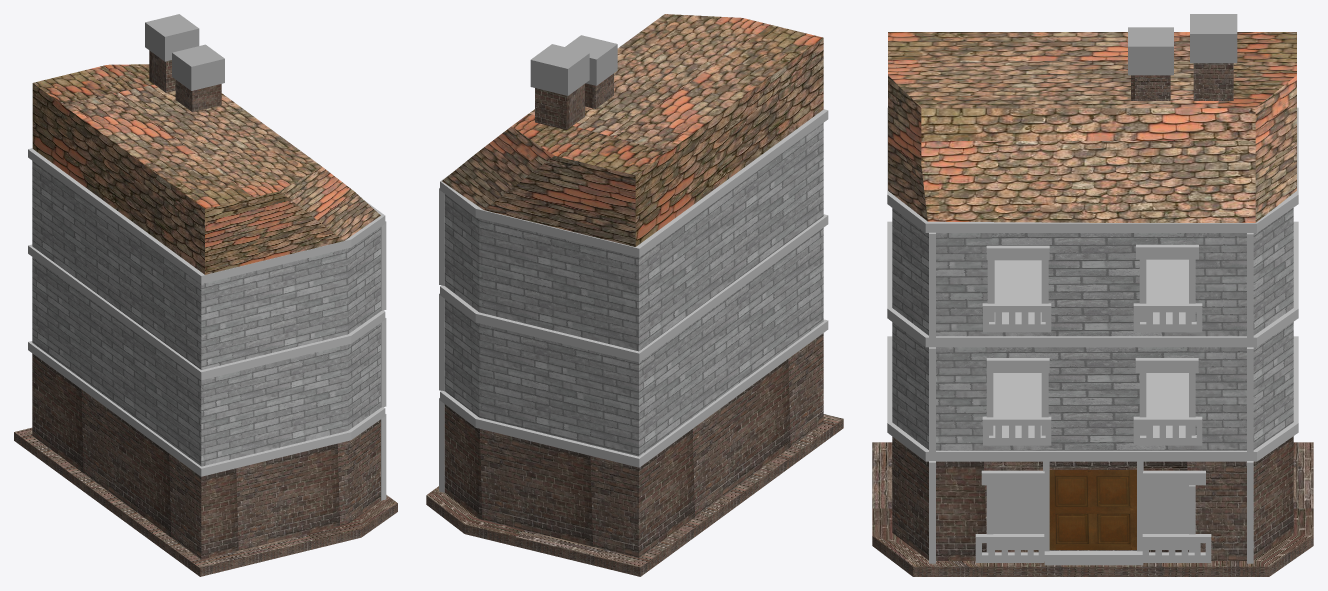
File: City house3.fbx
3 views of the same model, side by side, from view 1: azimuth 30°, elevation 25°; view 2: azimuth 150°, elevation 25°; view 3: azimuth 270°, elevation 25° (orthographic). The views are drawn at different scales.
Parts seen in each view (by area): view 1: Cube, Cube.001, Cube.002, Cube.003, Cube.005, Cube.006, Cube.004, Cube.042, Cube.010, Cube.009, Cube.008, Cube.007 (+3 smaller); view 2: Cube, Cube.001, Cube.002, Cube.003, Cube.005, Cube.006, Cube.042, Cube.004, Cube.009, Cube.007, Cube.010, Cube.008 (+3 smaller); view 3: Cube, Cube.002, Cube.001, Cube.003, Cube.005, Cube.004, Cube.042, Plane, Cube.006, Plane.002, Plane.001, Cube.009 (+24 smaller).
Part boxes in pixels (<box>): Cube: <box>32,64,380,274</box>; Cube.001: <box>32,257,380,466</box>; Cube.002: <box>32,161,380,369</box>; Cube.003: <box>32,353,380,559</box>; Cube.005: <box>14,427,397,576</box>; Cube.006: <box>28,148,385,283</box>; Cube.004: <box>28,244,385,380</box>; Cube.042: <box>28,341,385,476</box>; Cube.010: <box>172,44,224,90</box>; Cube.009: <box>145,14,199,61</box>; Cube.008: <box>175,80,221,112</box>; Cube.007: <box>149,50,175,92</box>; Cube: <box>442,14,823,246</box>; Cube.001: <box>444,228,823,456</box>; Cube.002: <box>444,123,823,351</box>; Cube.003: <box>444,333,823,557</box>; Cube.005: <box>426,414,843,576</box>; Cube.006: <box>440,109,828,257</box>; Cube.042: <box>440,319,828,467</box>; Cube.004: <box>440,214,828,362</box>; Cube.009: <box>530,44,589,95</box>; Cube.007: <box>535,84,584,129</box>; Cube.010: <box>565,35,617,85</box>; Cube.008: <box>585,73,613,108</box>; Cube: <box>888,32,1296,222</box>; Cube.002: <box>892,208,1293,336</box>; Cube.001: <box>892,322,1293,450</box>; Cube.003: <box>892,436,1293,560</box>; Cube.005: <box>872,442,1313,576</box>; Cube.004: <box>887,221,1298,347</box>; Cube.042: <box>887,336,1298,461</box>; Plane: <box>1049,470,1136,549</box>; Cube.006: <box>887,107,1298,232</box>; Plane.002: <box>993,485,1042,549</box>; Plane.001: <box>1143,485,1188,549</box>; Cube.009: <box>1190,14,1237,63</box>.
Size of the model in its own units: 6474 by 12021 by 9706.
